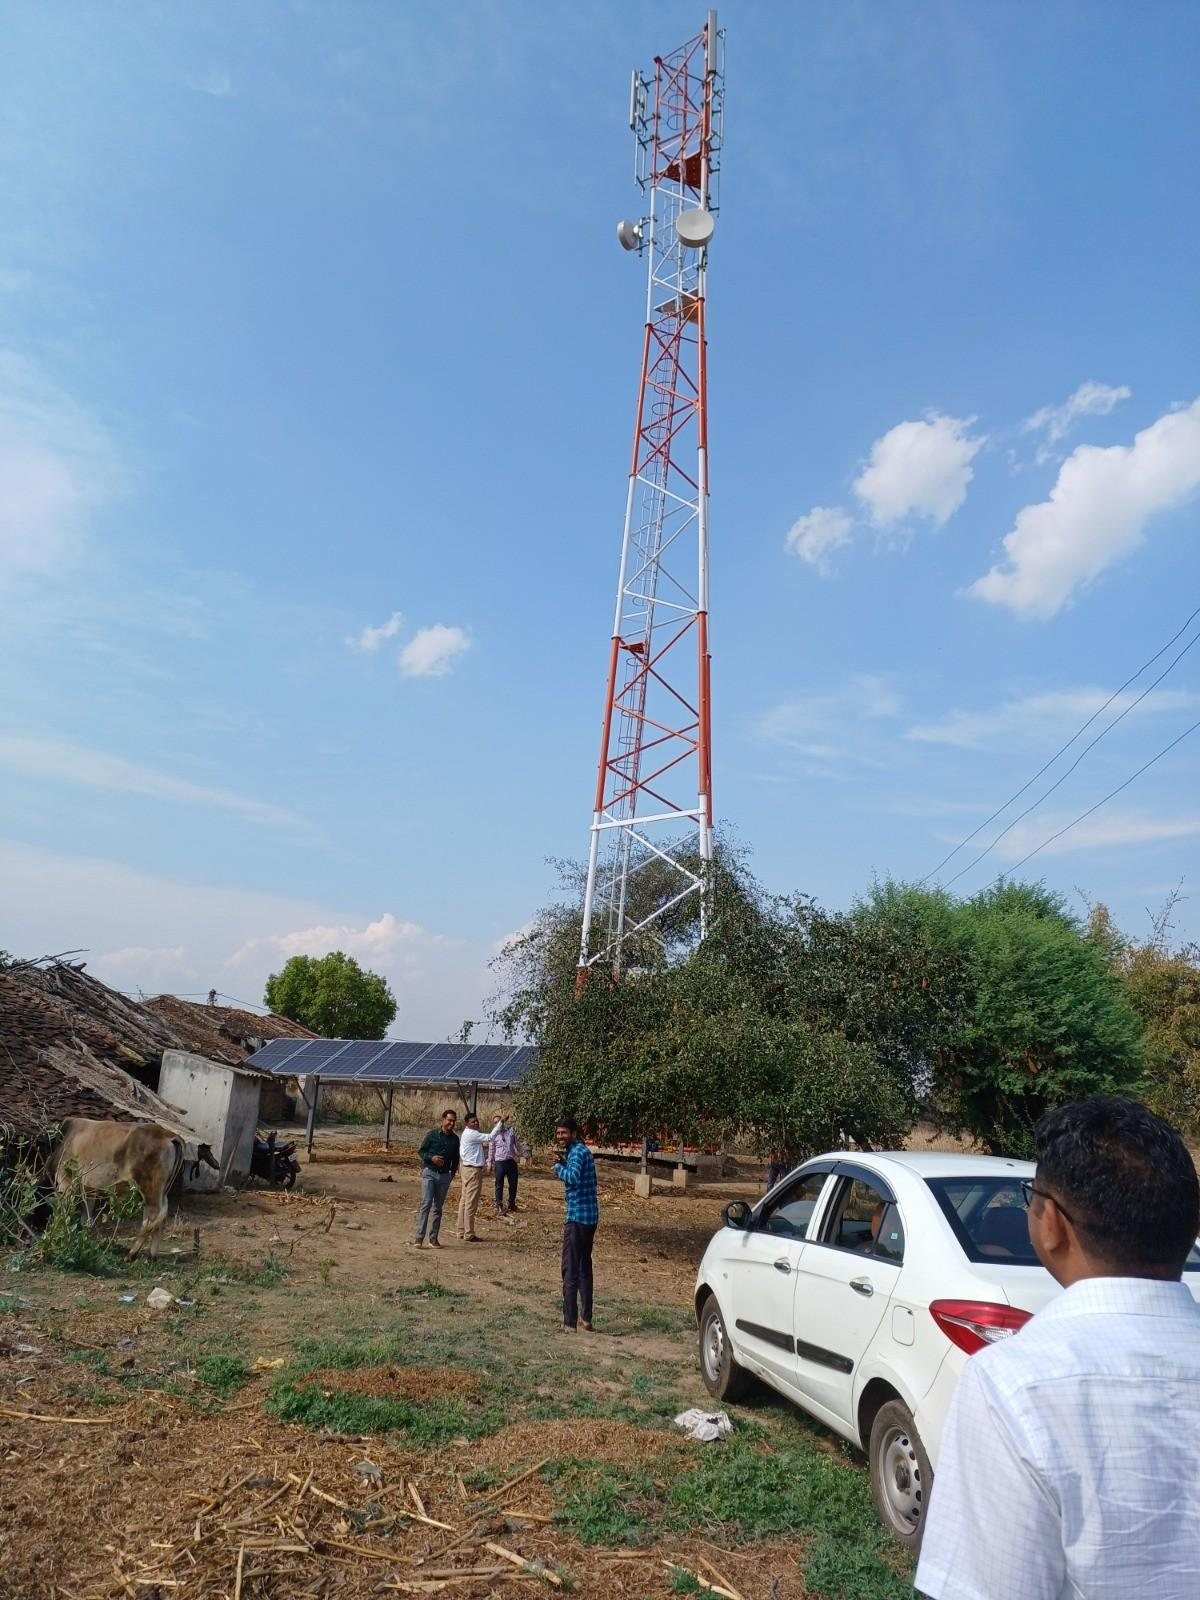GSM Antenna: (701, 11, 727, 79), (620, 67, 645, 131)
Microwave Antenna: (670, 201, 717, 253), (610, 212, 645, 254)
